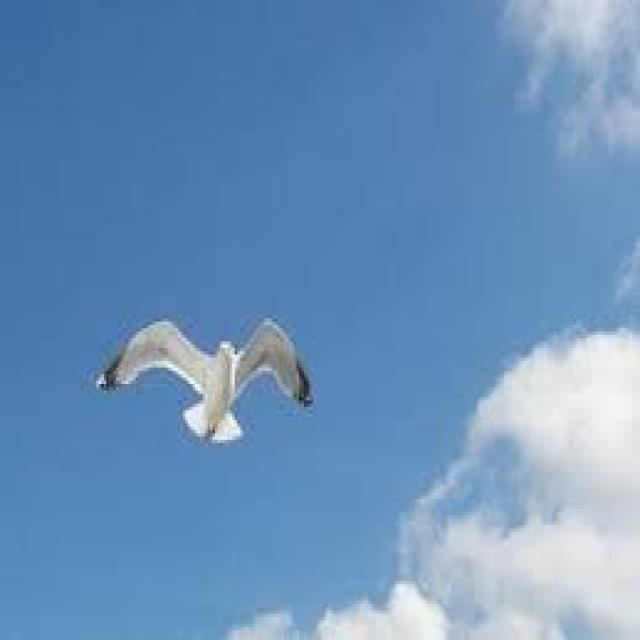bird: (94, 301, 316, 473)
